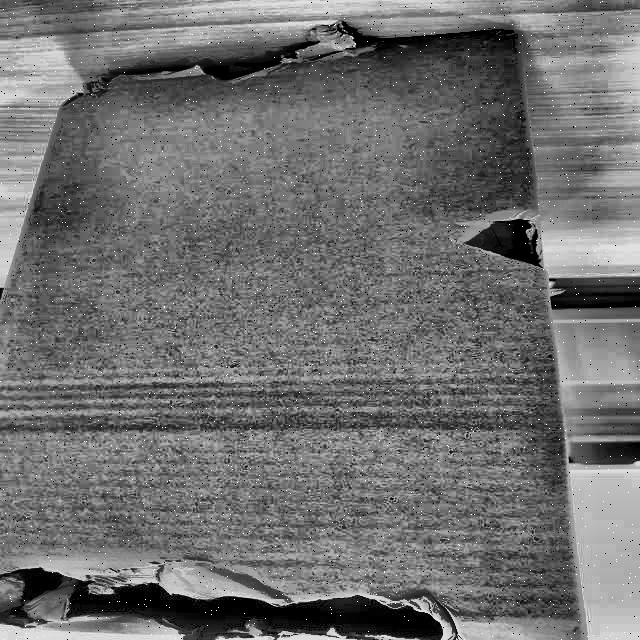box: (1, 21, 594, 640)
hole: (8, 569, 455, 640), (119, 55, 314, 84), (448, 219, 546, 275)
